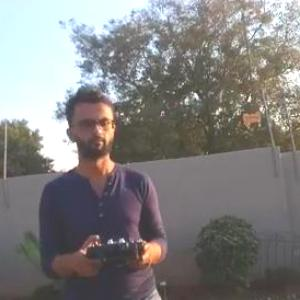follow: (42, 86, 183, 299)
